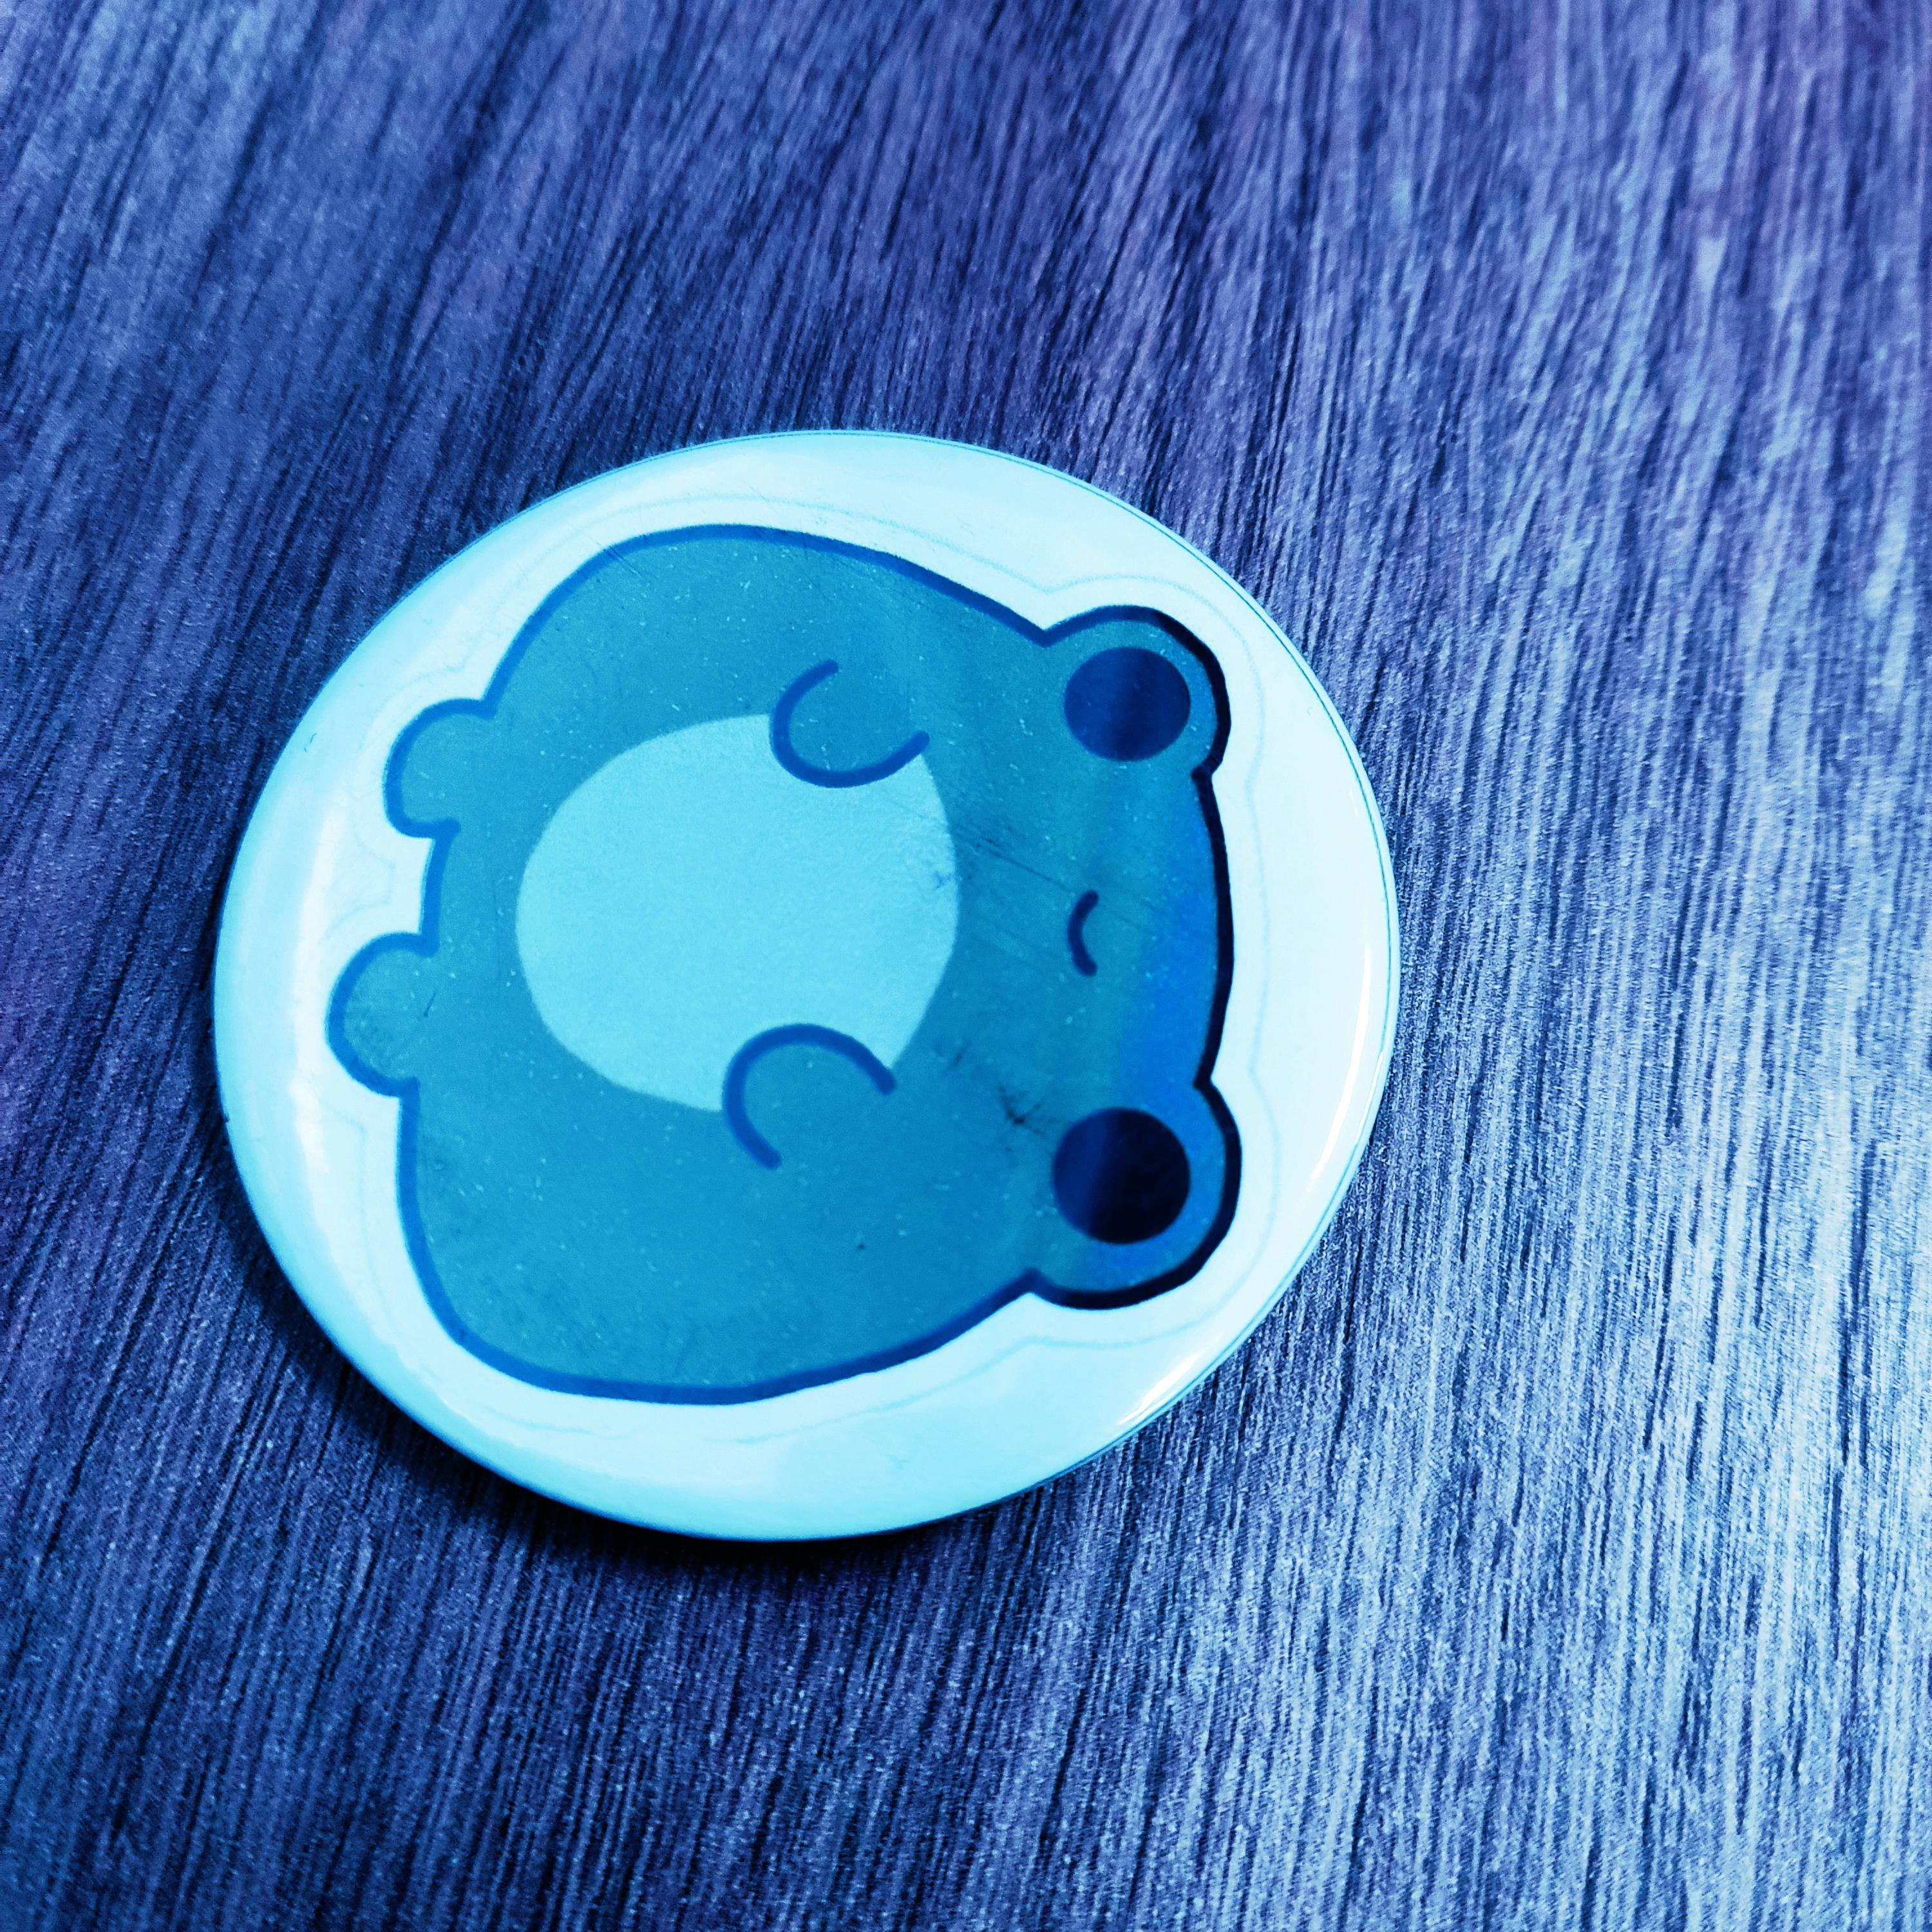pin: (168, 485, 1442, 1566)
